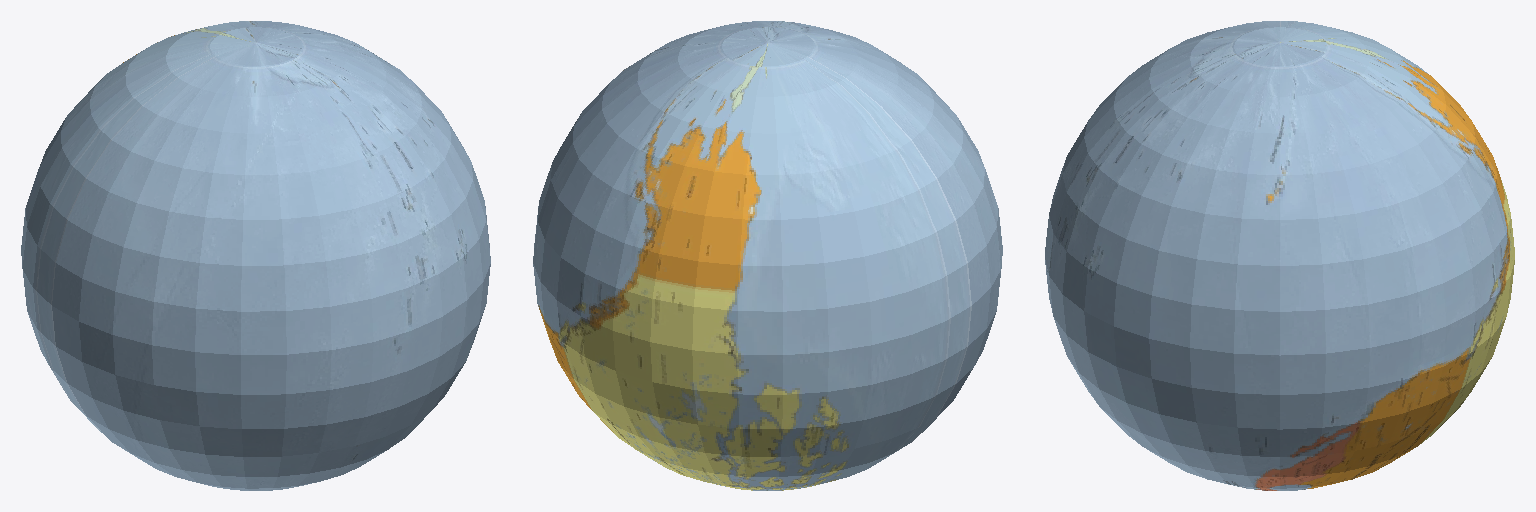
The picture shows the model from 3 angles: view 1: azimuth 30°, elevation 25°; view 2: azimuth 150°, elevation 25°; view 3: azimuth 270°, elevation 25°; orthographic projection.
Parts seen in each view (by area): view 1: 球; view 2: 球; view 3: 球.
Part boxes in pixels (left/top/right/bottom): 球: left=21, top=21, right=490, bottom=490; 球: left=533, top=21, right=1002, bottom=490; 球: left=1045, top=21, right=1514, bottom=490.
Size of the model in its own units: 2 by 2 by 2.
Materials: 1 (1 with a texture image).